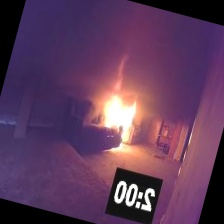fire: (90, 81, 151, 153)
